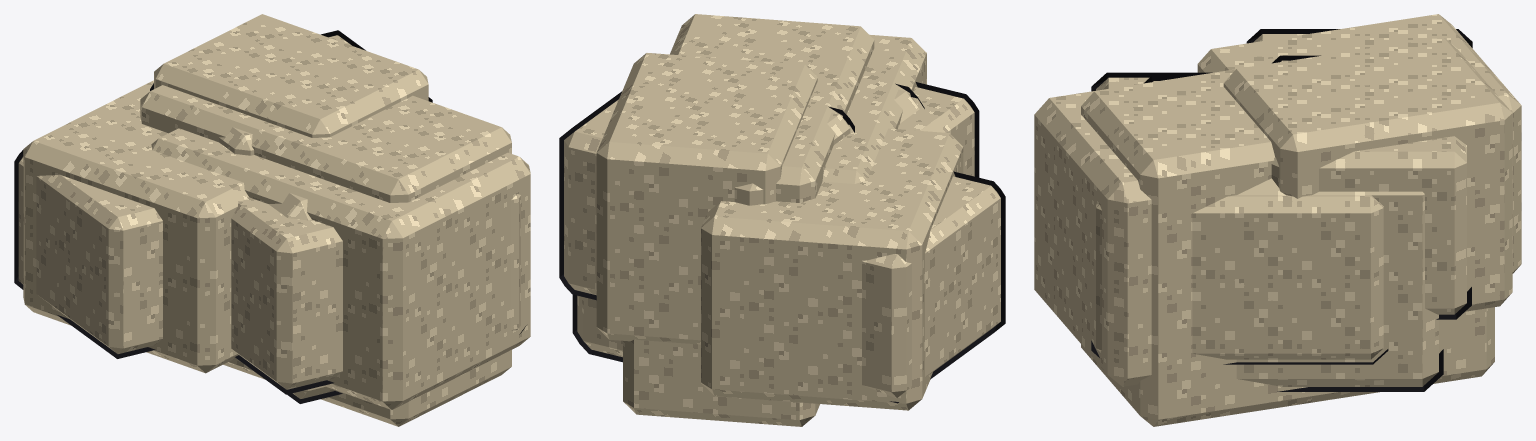
The model's file is env_jungle_rock.glb.
3 views of the same model, side by side, from view 1: azimuth 30°, elevation 25°; view 2: azimuth 150°, elevation 25°; view 3: azimuth 270°, elevation 25° (orthographic). The views are drawn at different scales.
Parts seen in each view (by area): view 1: model; view 2: model; view 3: model.
Part boxes in pixels (<box>): model: <box>14,14,530,426</box>; model: <box>559,14,1005,426</box>; model: <box>1034,14,1521,426</box>.
Size of the model in its own units: 1.46 by 1.01 by 1.58.
2 materials, 1 textured.
